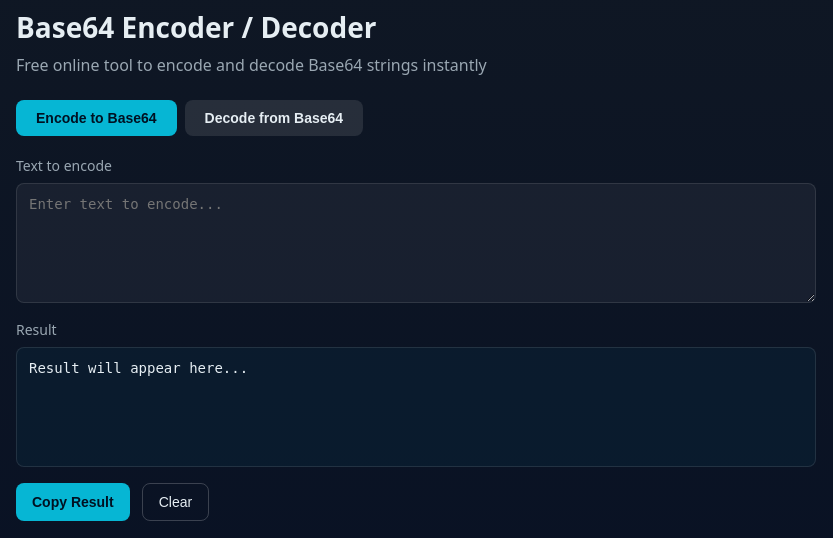
it: Base64Tool › decodes base64 to text
The width and height of the screenshot is (833, 538).
Click the button "Decode from Base64".
click(274, 118)  # box [185,100,363,136]
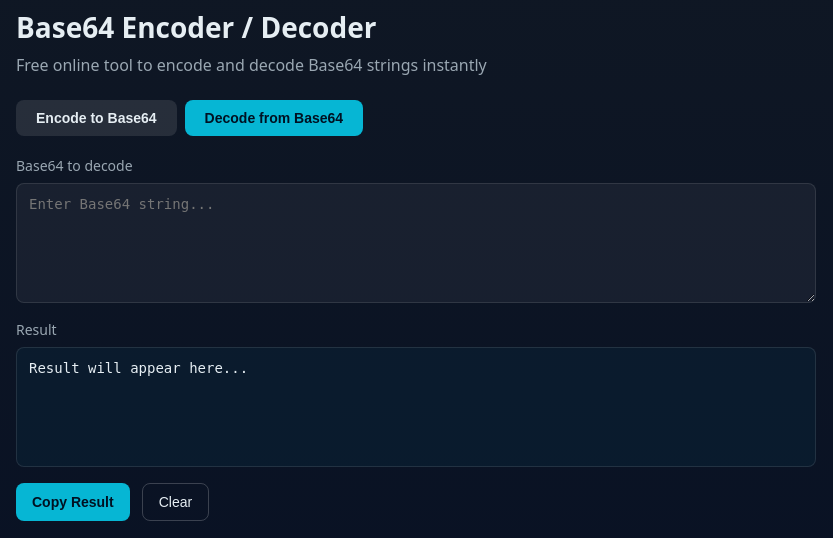
Type "aGVsbG8=" into the text box with placeholder "Enter Base64 string...".
click(416, 243); type("aGVsbG8=")  # box [16,183,816,303]
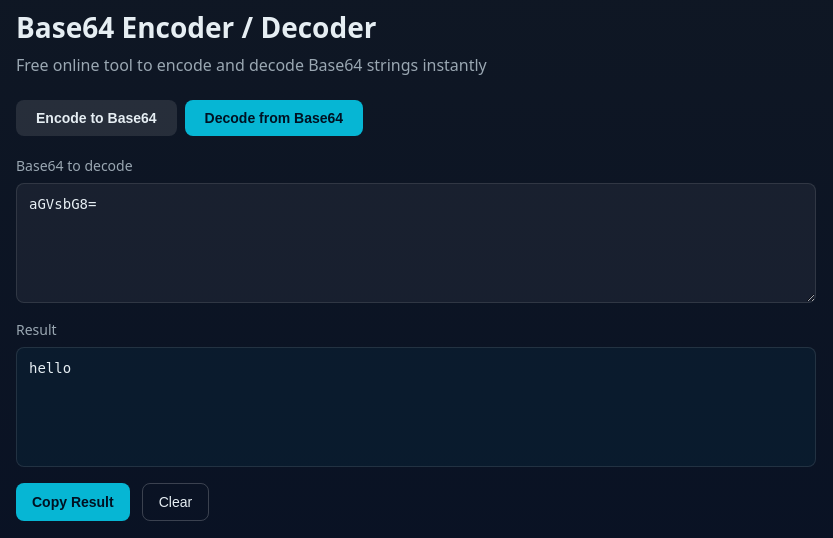
Now the text "hello" is shown, box [16,347,816,467]
